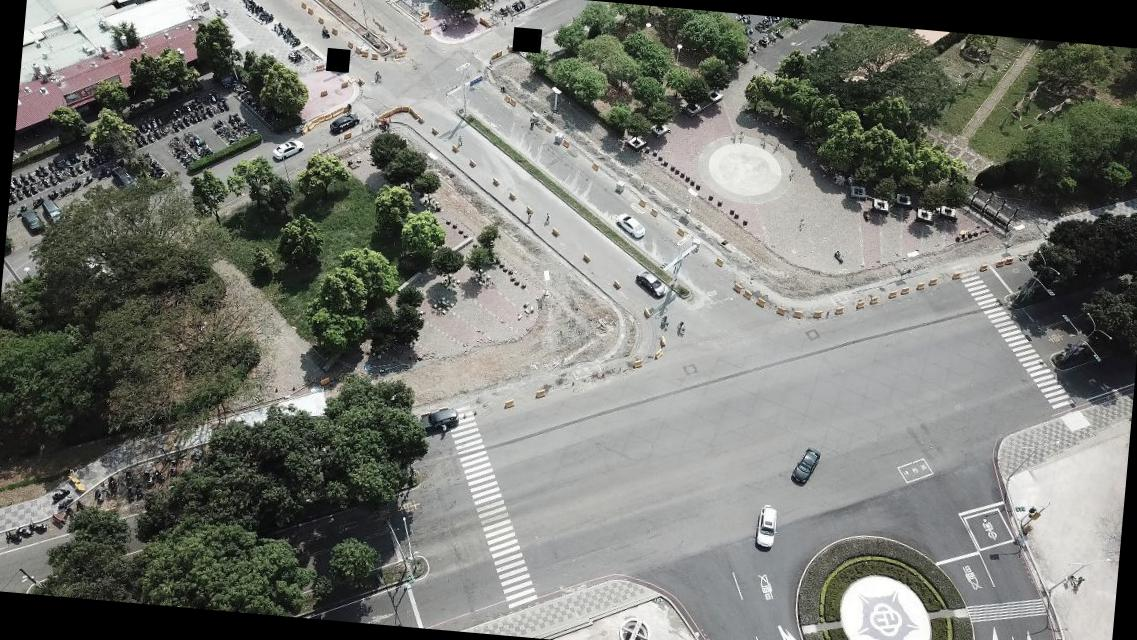vehicle: (416, 404, 458, 438), (790, 445, 822, 486), (754, 504, 780, 550), (634, 270, 666, 300), (614, 212, 647, 240), (270, 136, 304, 162), (18, 208, 46, 237), (110, 164, 136, 193), (40, 197, 66, 226), (327, 110, 358, 134)
